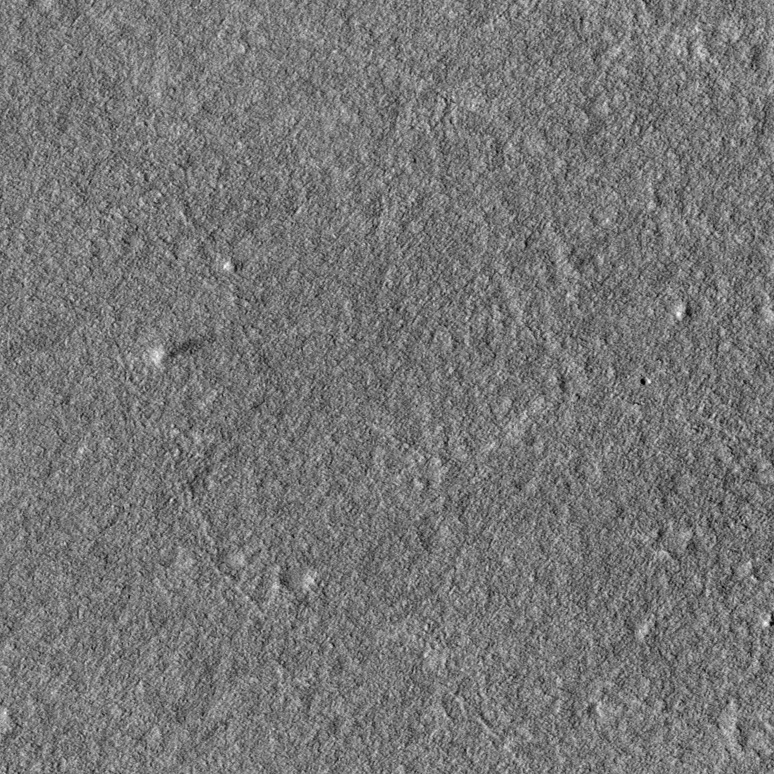dust_devil: (151, 333, 206, 370)
